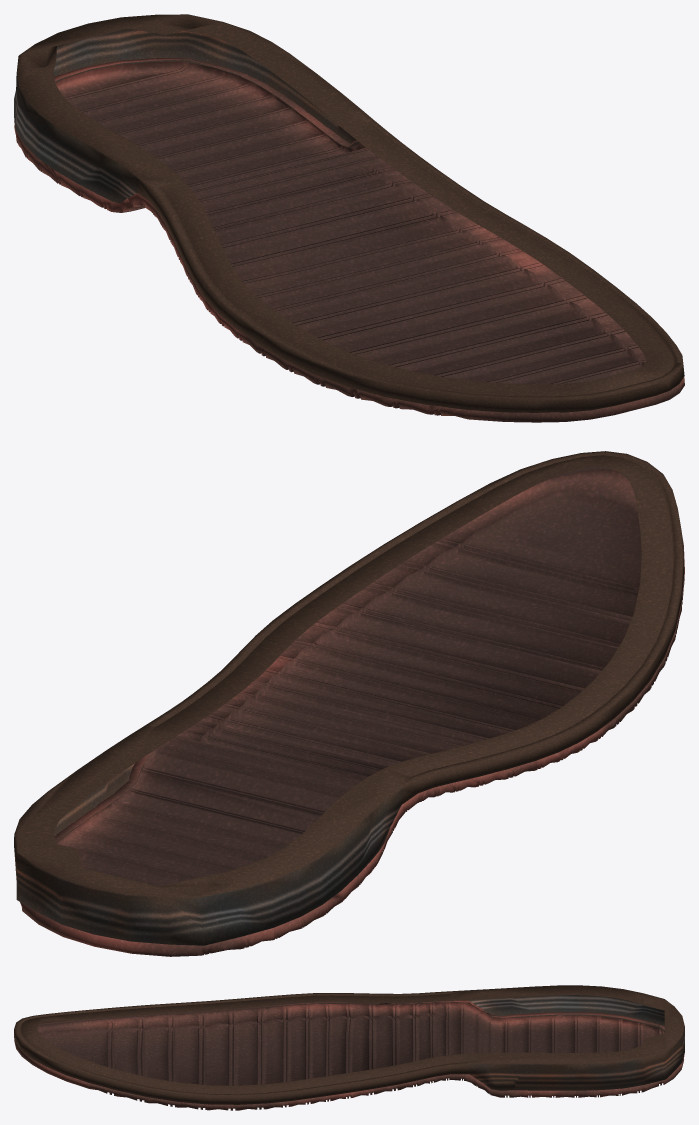
Rendered from soles.obj.
3 views of the same model, one above another, from view 1: azimuth 30°, elevation 25°; view 2: azimuth 150°, elevation 25°; view 3: azimuth 270°, elevation 25° (orthographic). The views are drawn at different scales.
Visible parts, largest first — view 1: sole.002; view 2: sole.002; view 3: sole.002.
Part boxes in pixels (x1=…): sole.002: x1=14, y1=14, x2=684, y2=422; sole.002: x1=14, y1=451, x2=684, y2=956; sole.002: x1=14, y1=985, x2=684, y2=1110.
Size of the model in its own units: 3.59 by 0.7157 by 10.16.
